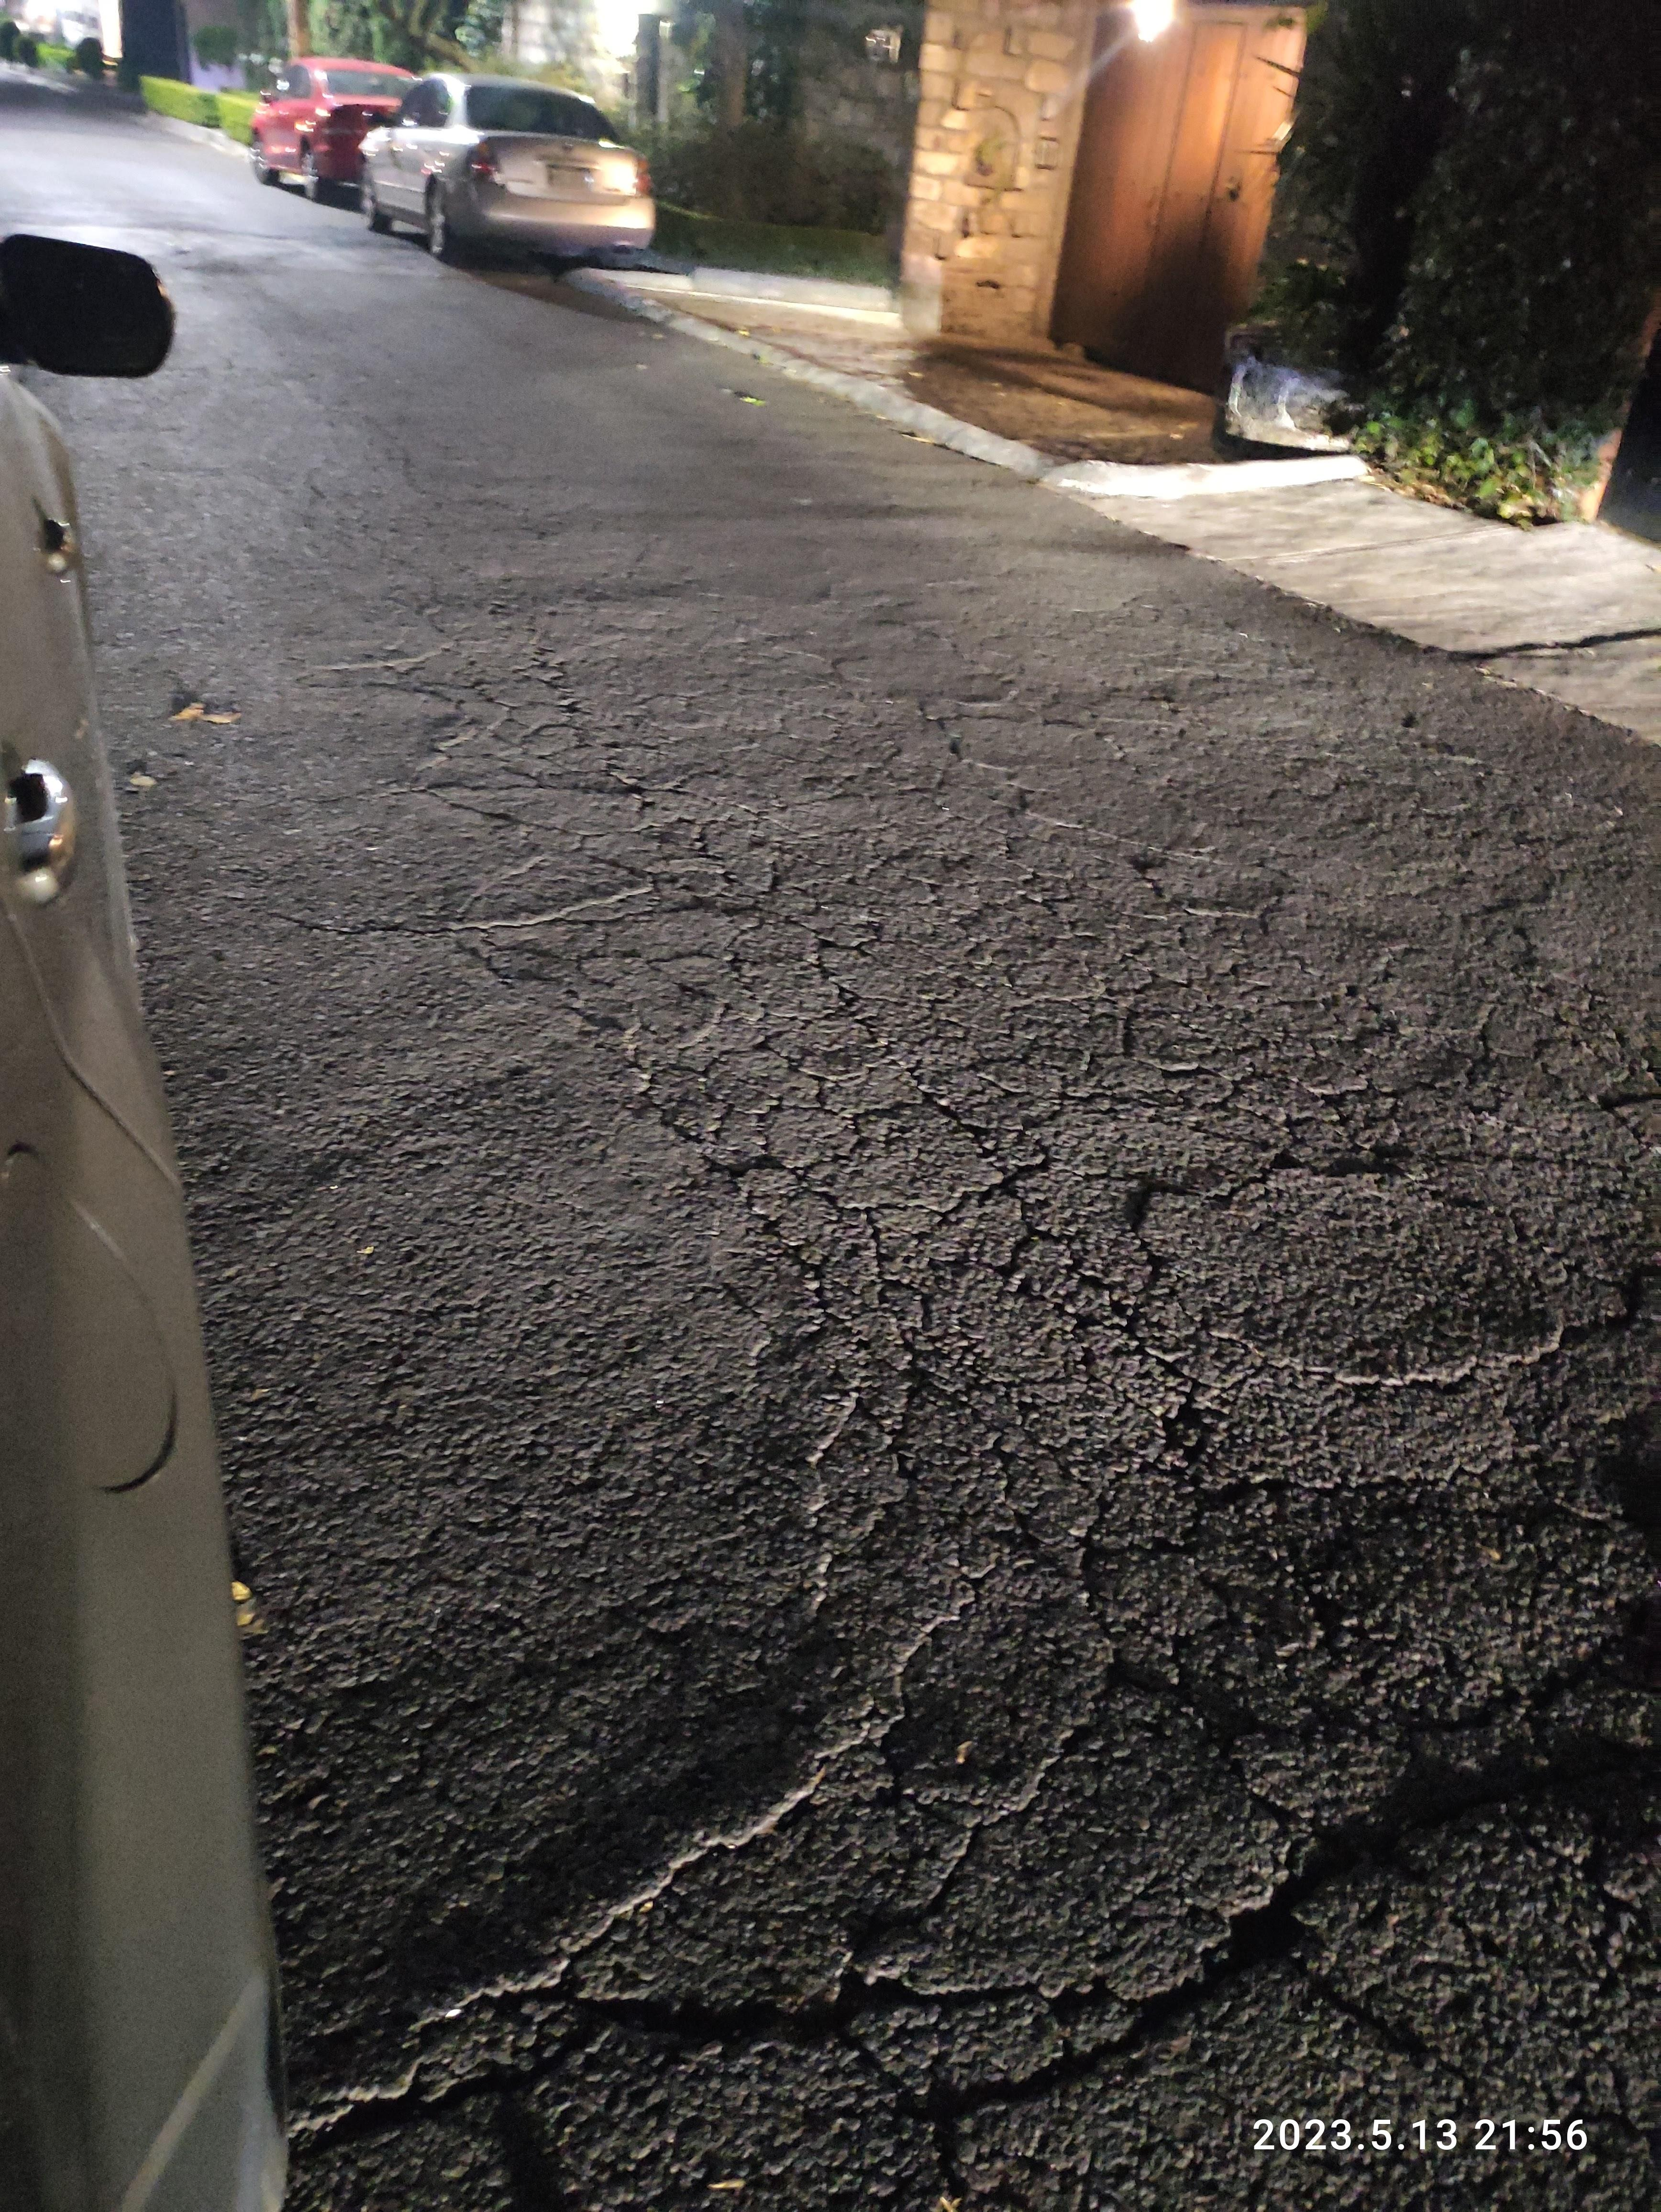alligator-crack: (260, 576, 1661, 2212)
